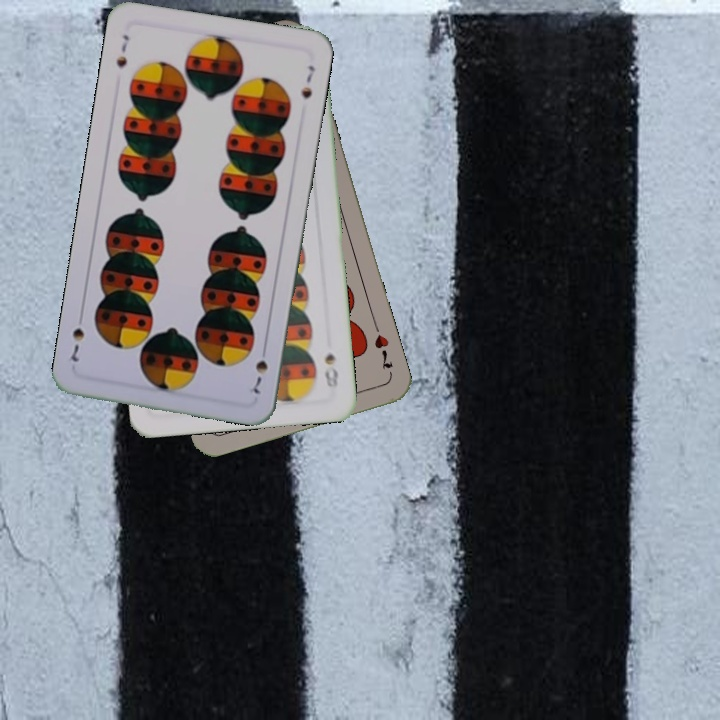H7: (370, 330, 396, 372)
S7: (249, 341, 271, 397), (112, 30, 132, 71)
S8: (320, 348, 341, 390)
